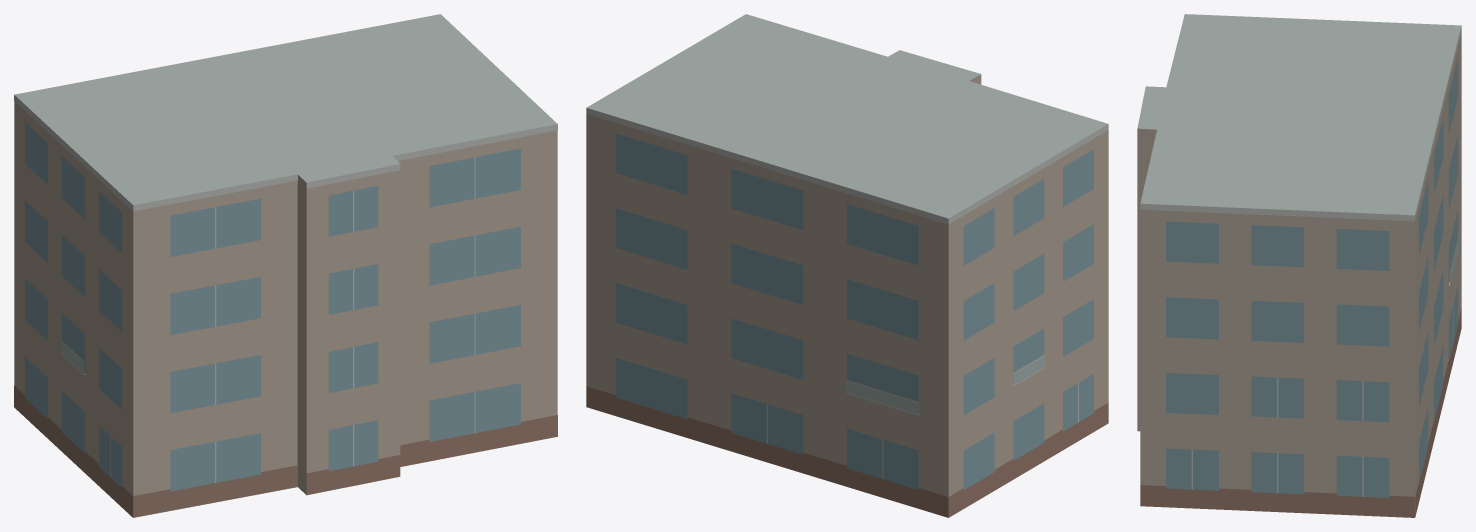
Rendered from survey-upis-32704973.glb.
3 renders of one model, left to right at view 1: azimuth 30°, elevation 25°; view 2: azimuth 150°, elevation 25°; view 3: azimuth 270°, elevation 25°, orthographic. The views are drawn at different scales.
Parts seen in each view (by area): view 1: survey-upis-32704973.tmp; view 2: survey-upis-32704973.tmp; view 3: survey-upis-32704973.tmp.
Part boxes in pixels (x1,y1,x2,y2): survey-upis-32704973.tmp: (14,14,557,517); survey-upis-32704973.tmp: (586,14,1108,517); survey-upis-32704973.tmp: (1137,14,1461,517).
Bounding box in the file's own units: 17.43 × 12.2 × 11.86.
